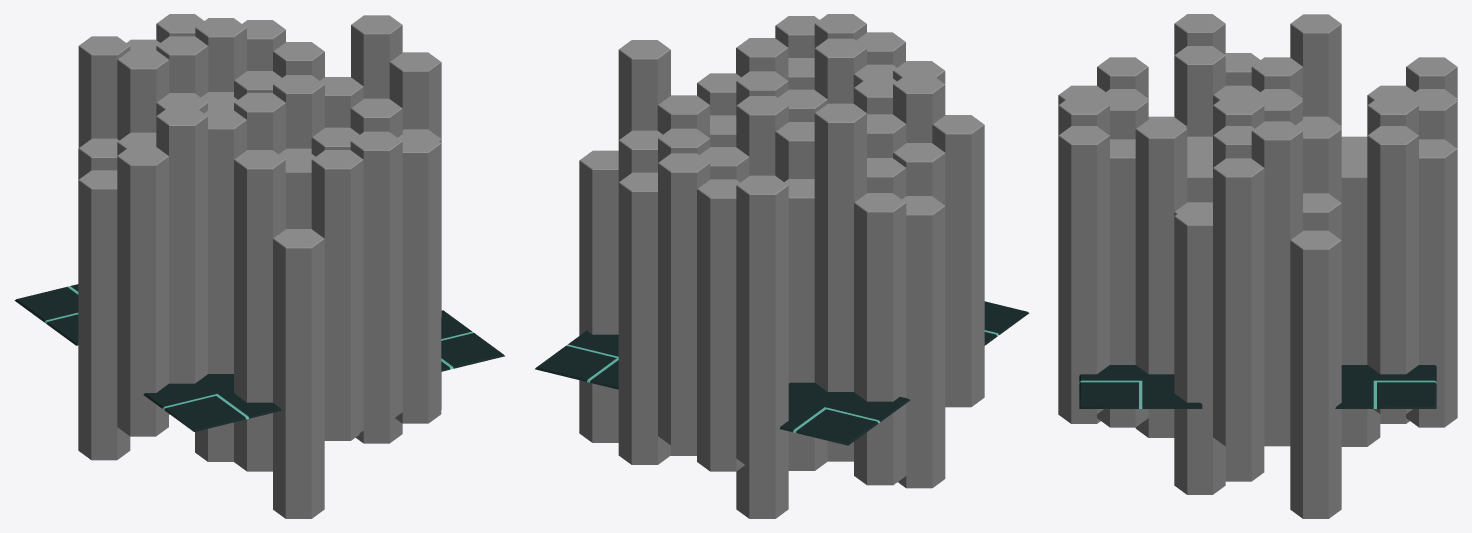
The model's file is Walls_4Way_Var00.fbx.
3 views of the same model, side by side, from view 1: azimuth 30°, elevation 25°; view 2: azimuth 150°, elevation 25°; view 3: azimuth 270°, elevation 25° (orthographic).
Parts seen in each view (by area): view 1: Walls_4Way_Var00; view 2: Walls_4Way_Var00; view 3: Walls_4Way_Var00.
Part boxes in pixels (x1,y1,x2,y2): Walls_4Way_Var00: (14,14,505,518); Walls_4Way_Var00: (535,14,1029,518); Walls_4Way_Var00: (1058,14,1457,518).
Bounding box in the file's own units: 638 × 691 × 670.
